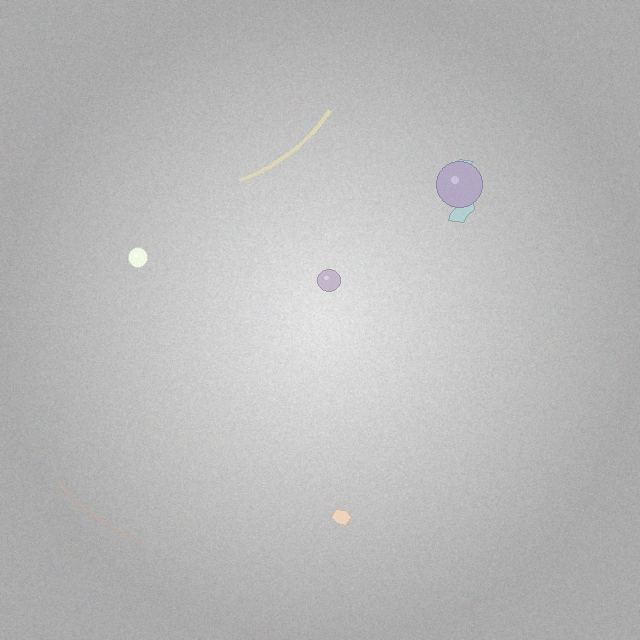fiber: (234, 106, 335, 186), (55, 480, 149, 546)
film: (449, 160, 475, 222)
fragment: (331, 509, 352, 526)
pellet: (436, 162, 482, 208), (317, 269, 340, 292), (128, 248, 148, 267)
